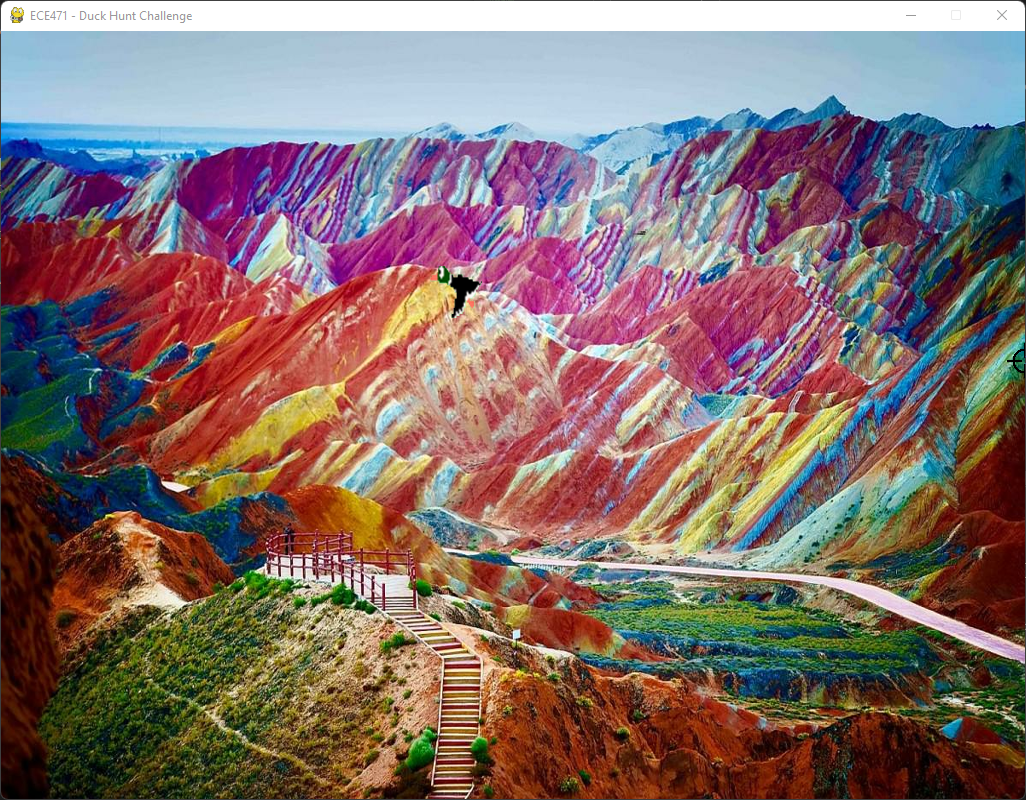black: (426, 260, 490, 320)
